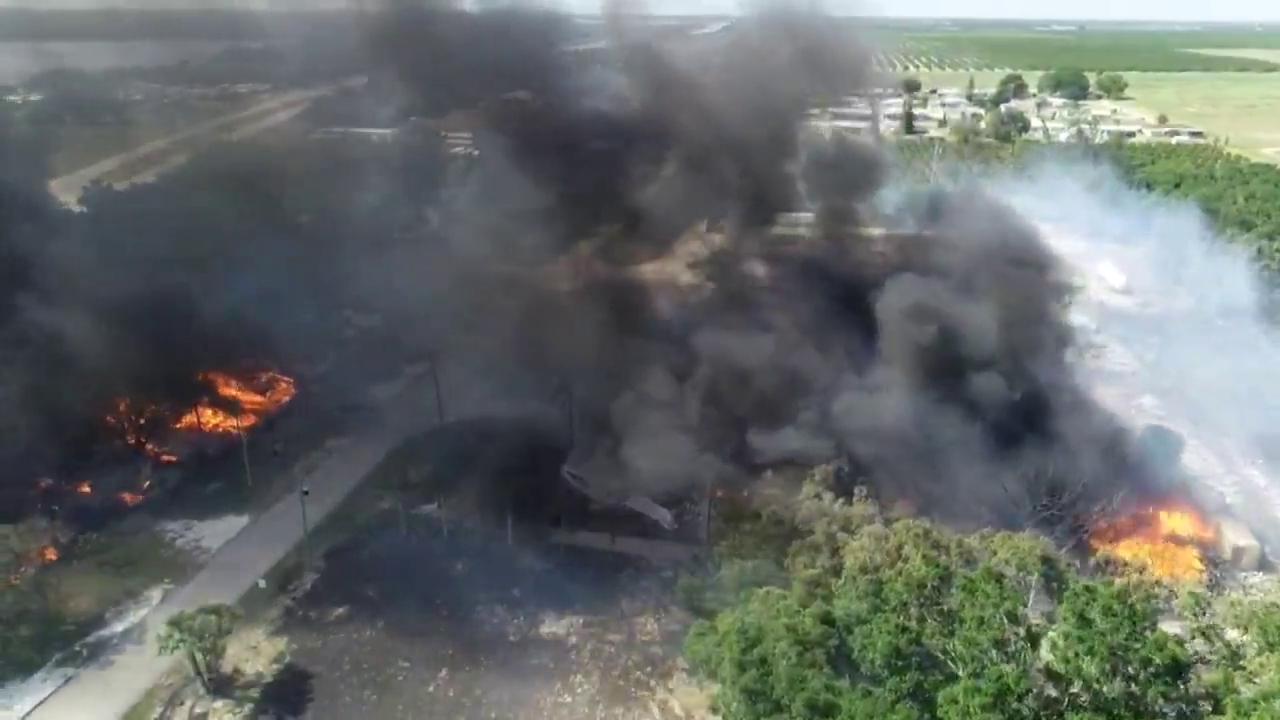forest_fire: (105, 371, 296, 463), (1088, 497, 1216, 580), (173, 371, 296, 433)
